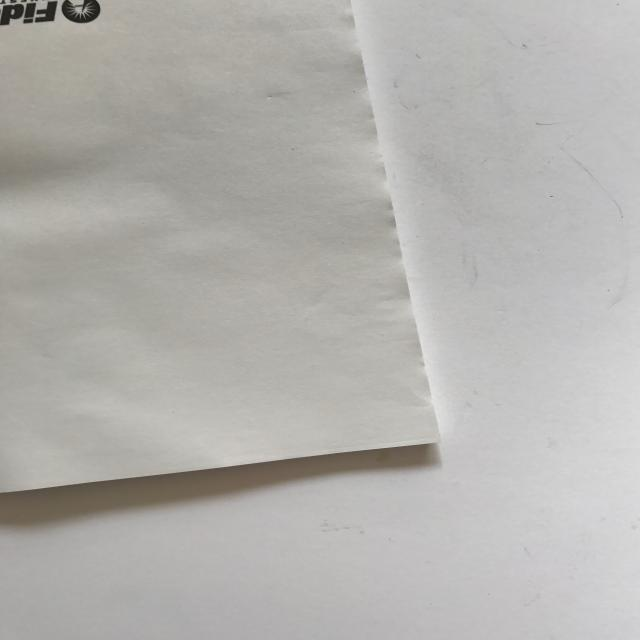paper: (0, 0, 469, 523)
